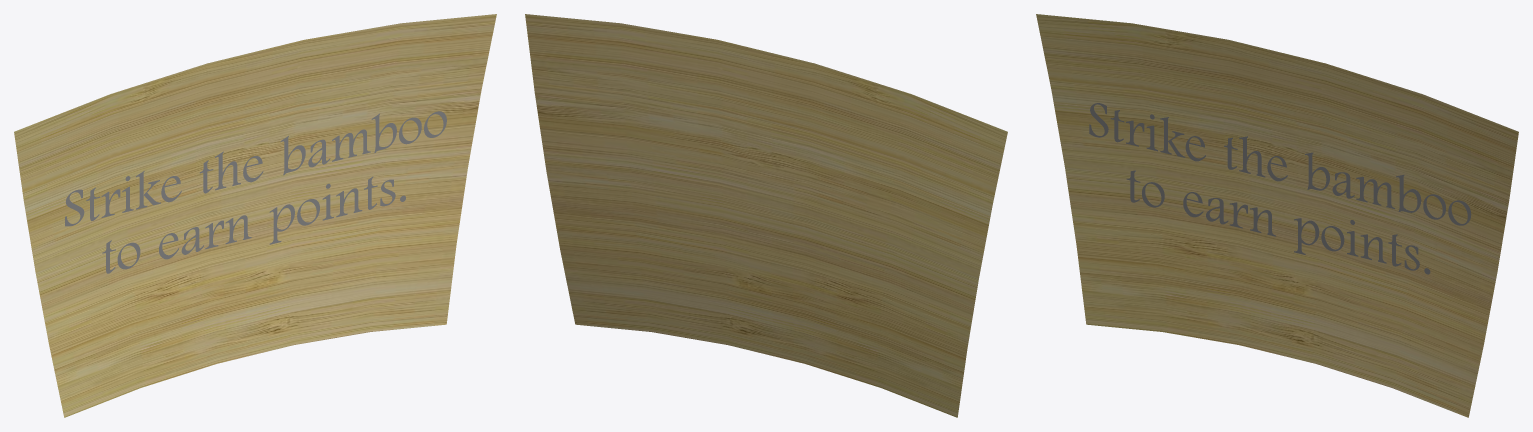
The model's file is instructions.FBX.
3 renders of one model, left to right at view 1: azimuth 30°, elevation 25°; view 2: azimuth 150°, elevation 25°; view 3: azimuth 330°, elevation 25°, orthographic.
Parts seen in each view (by area): view 1: Plane004, TextPlus004; view 2: Plane004; view 3: Plane004, TextPlus004.
Boxes of the visible parts, x1,y1,x2,y2 form: Plane004: (14,14,496,417); TextPlus004: (65,111,446,273); Plane004: (525,14,1007,417); Plane004: (1036,14,1518,417); TextPlus004: (1089,103,1471,274).
Bounding box in the file's own units: 131 × 82.95 × 1.72.
Materials: 2 (1 with a texture image).
